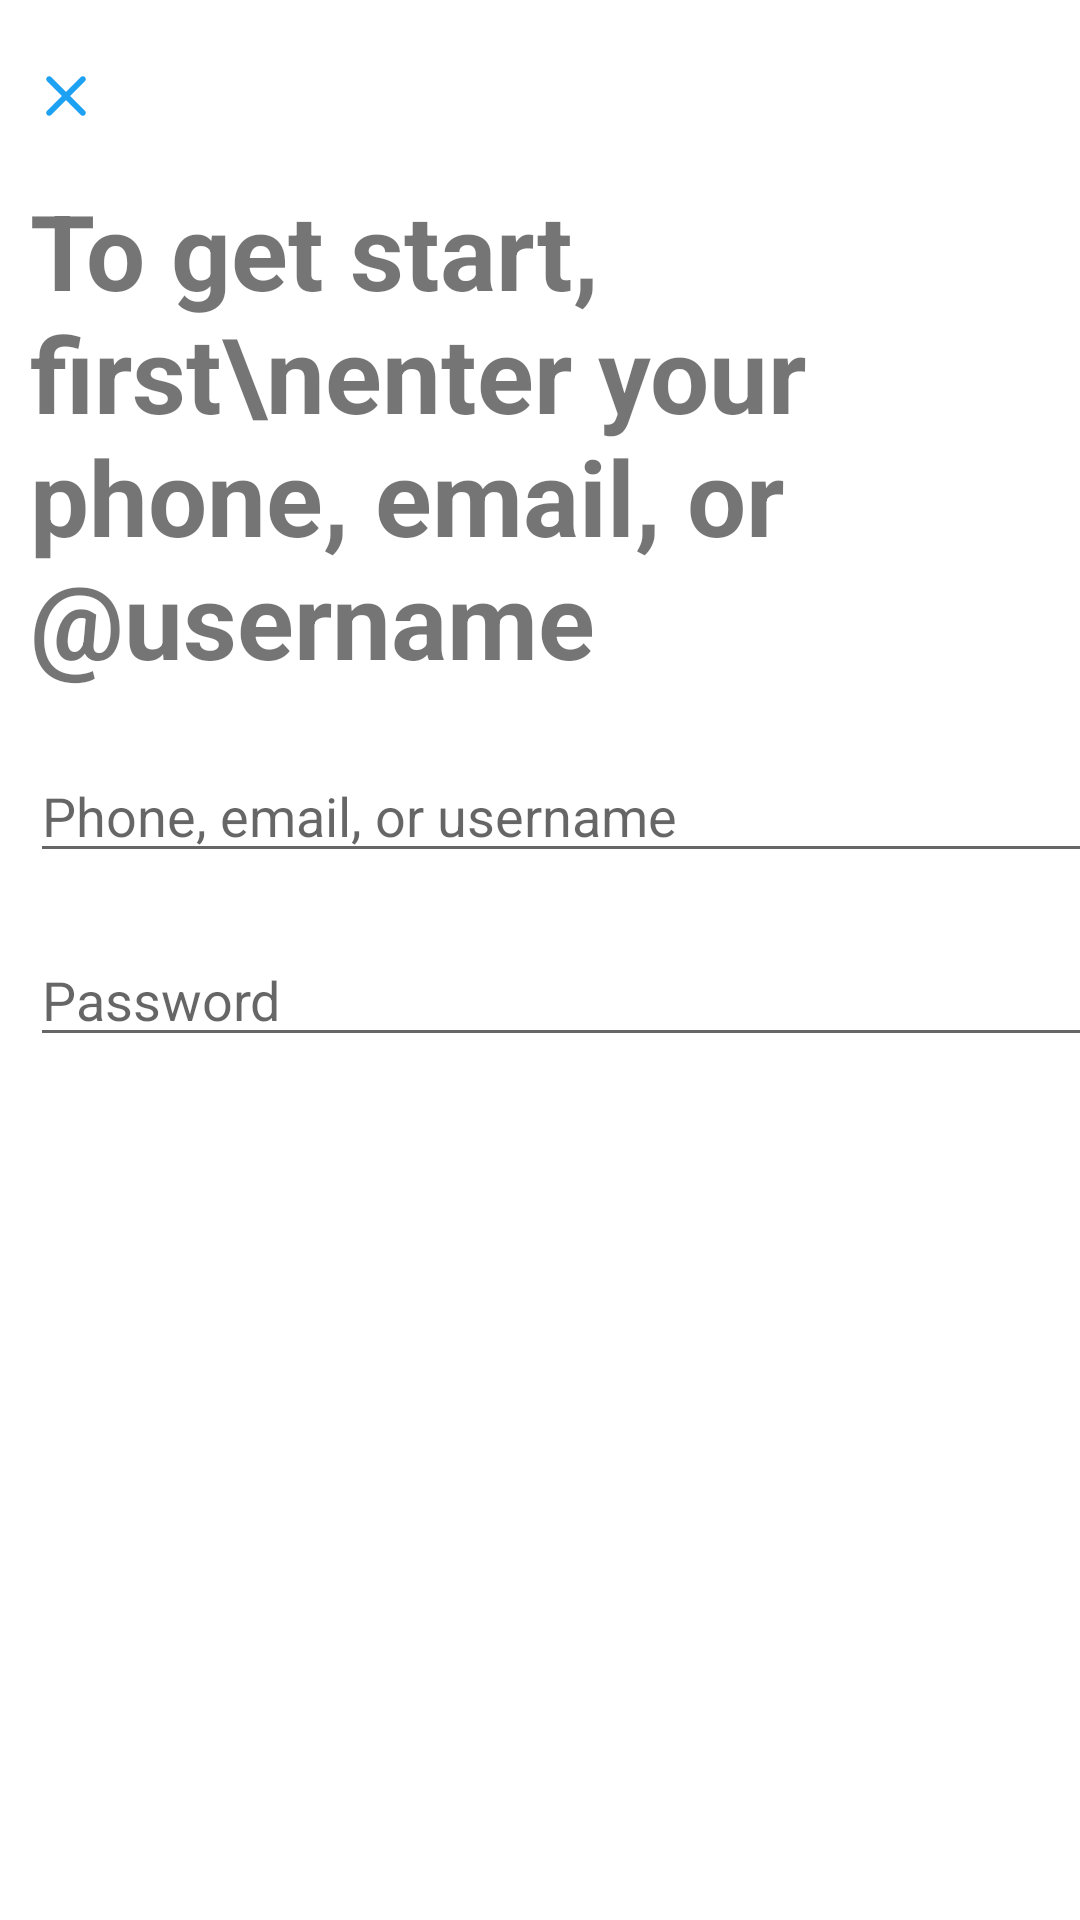

Icons on this 1080px×1920px Android screen, each with the point to tap as [x,y]:
close: [66,96]
